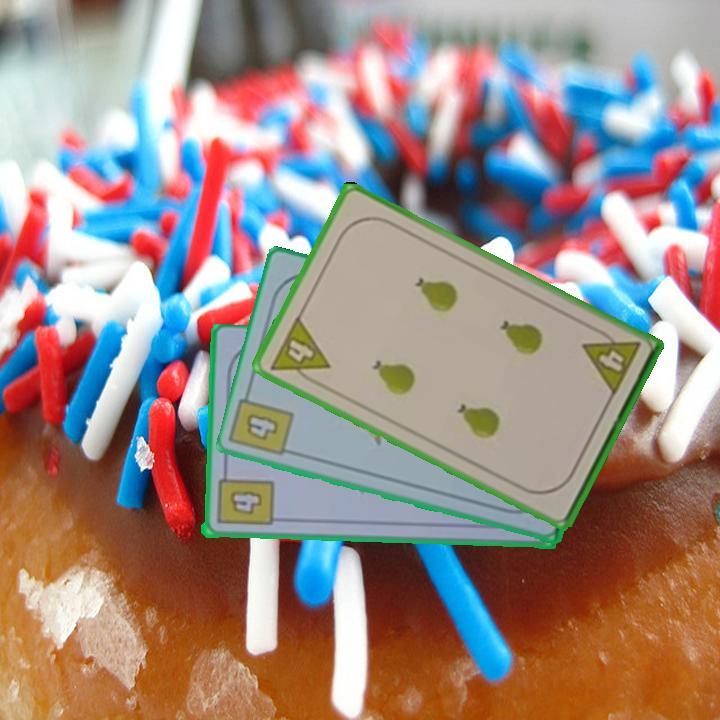4b: (213, 465, 275, 529), (242, 410, 282, 444)
4p: (266, 312, 333, 390), (579, 323, 644, 399)
